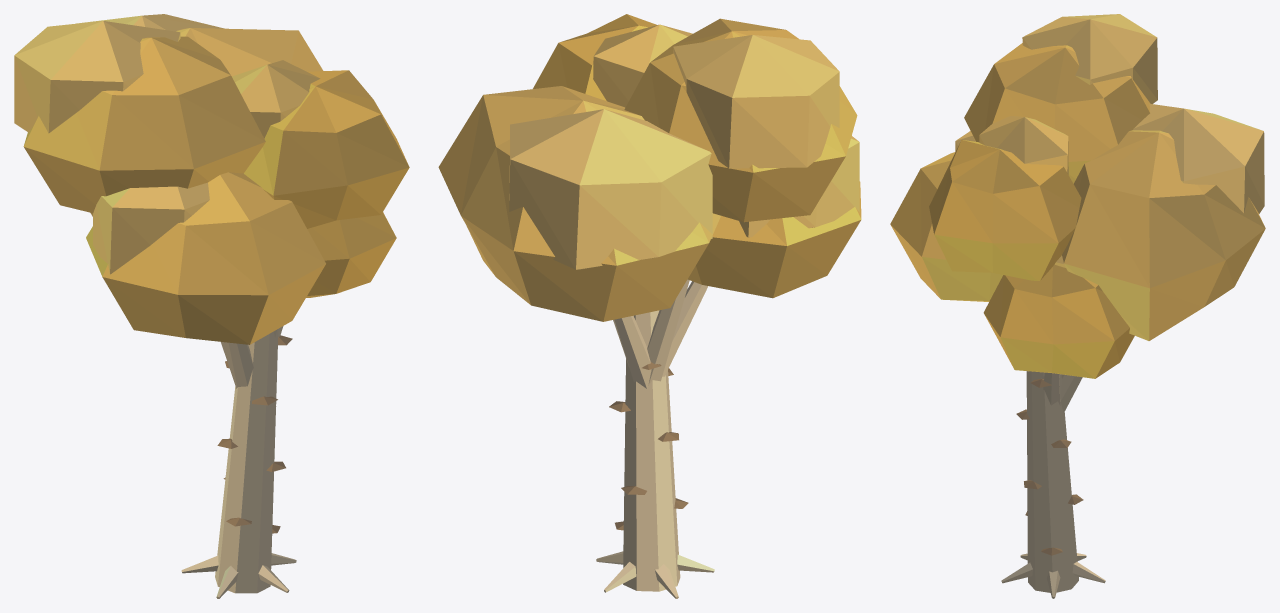
The model's file is extension_node_9.glb.
The picture shows the model from 3 angles, left to right: view 1: azimuth 30°, elevation 25°; view 2: azimuth 150°, elevation 25°; view 3: azimuth 270°, elevation 25°; orthographic projection. The views are drawn at different scales.
Visible parts, largest first — view 1: extension_node_9; view 2: extension_node_9; view 3: extension_node_9.
Boxes of the visible parts, x1,y1,x2,y2 form: extension_node_9: (14, 14, 409, 598); extension_node_9: (438, 14, 861, 598); extension_node_9: (890, 14, 1265, 598).
Bounding box in the file's own units: 2.5 × 3.86 × 2.56.
